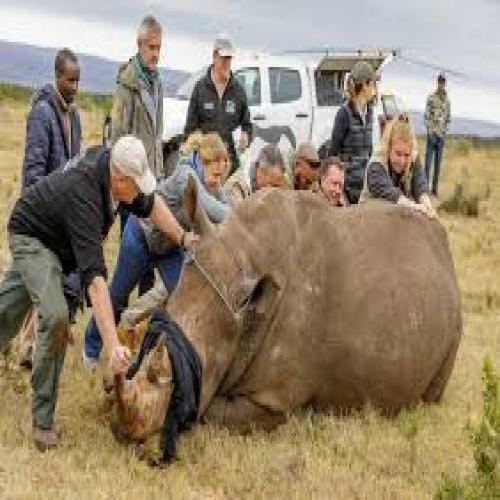rhino-endangered: (110, 175, 460, 468)
